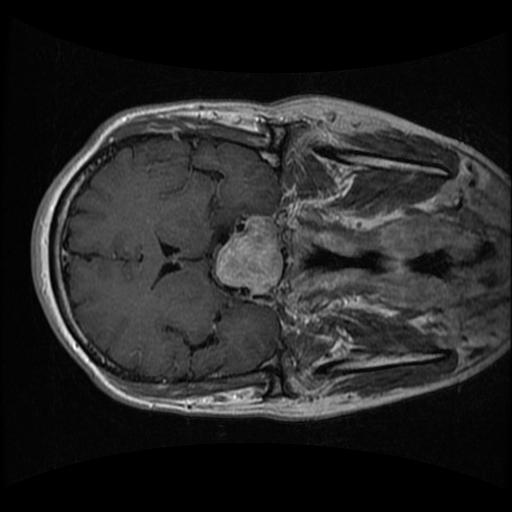pituitary tumour: (214, 215, 283, 295)
